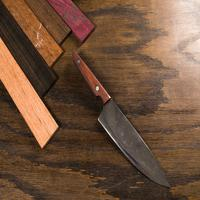knife: (67, 46, 178, 190)
